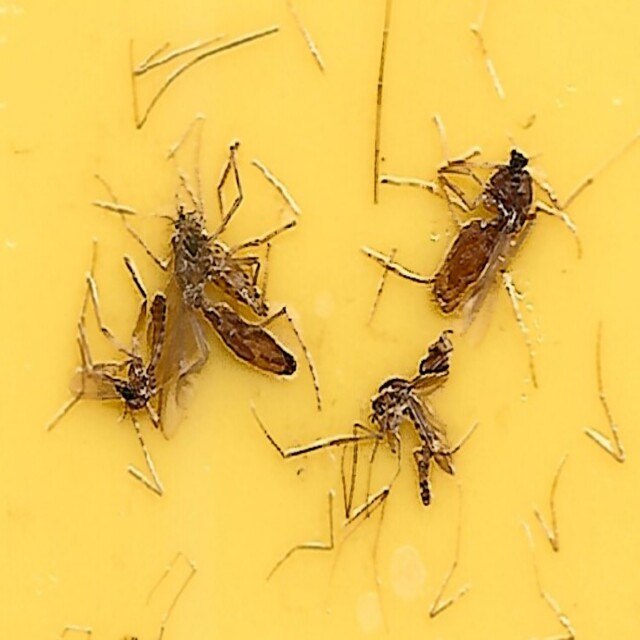Nematocera: (144, 192, 305, 387), (428, 128, 553, 320), (366, 361, 447, 512), (87, 289, 174, 417)
